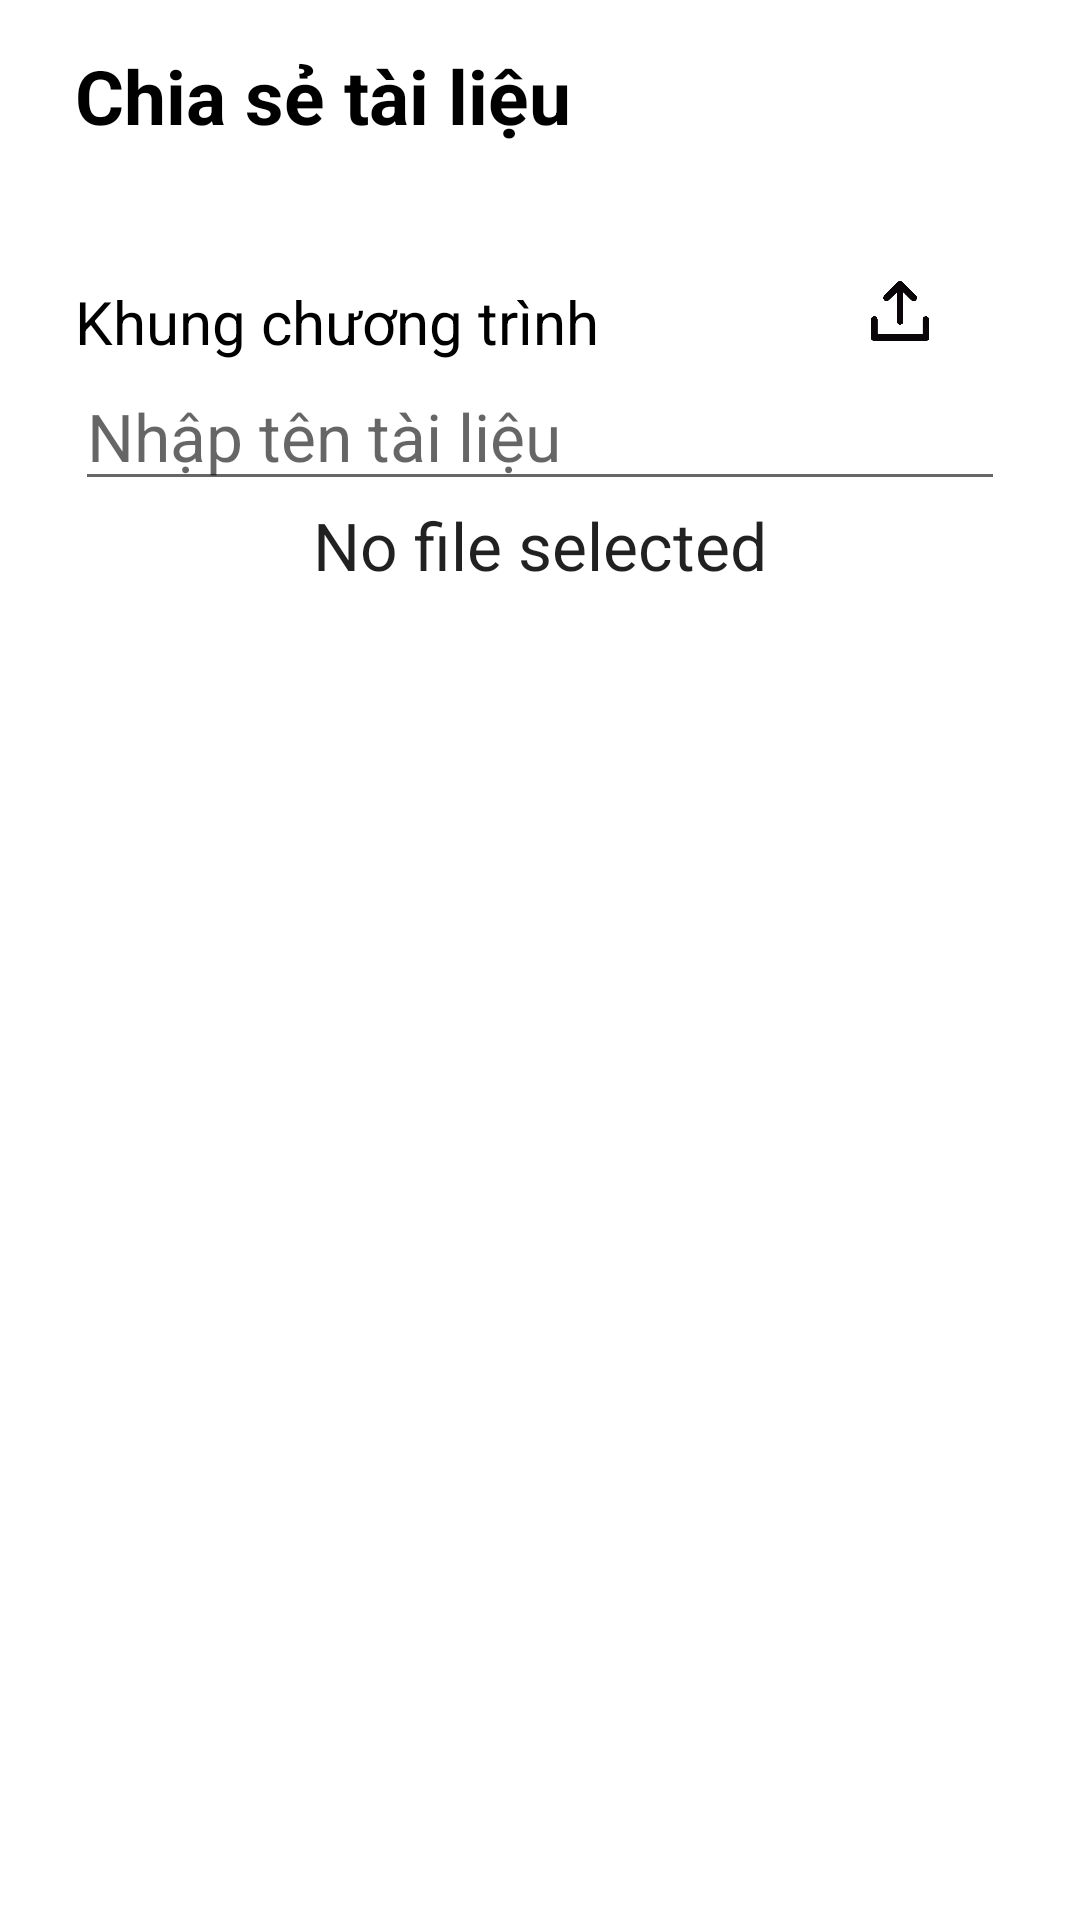

Icon bounding boxes for this 1080*1920 phone screenshot, format Rect(x1, y1, x2, y2):
upload: Rect(871, 281, 929, 341)
